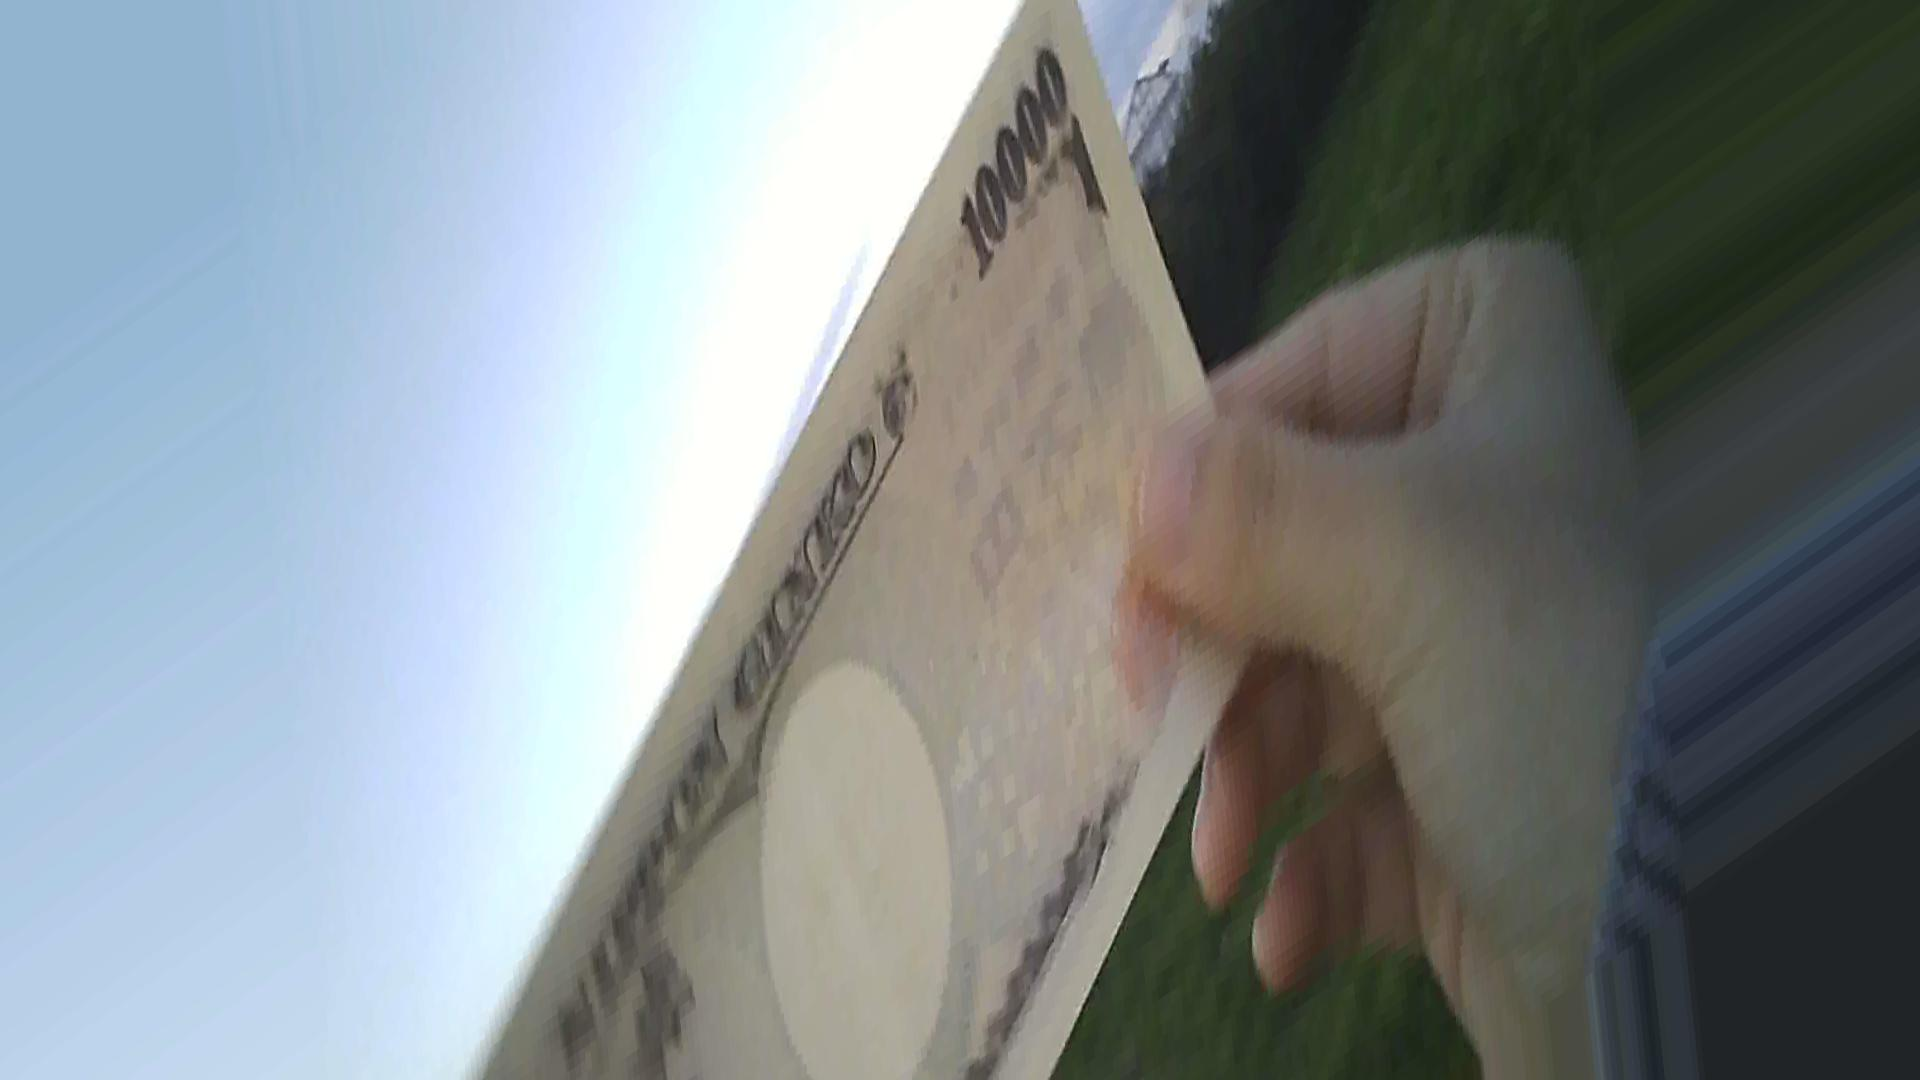10,000 Yen: (426, 13, 1174, 1079)
